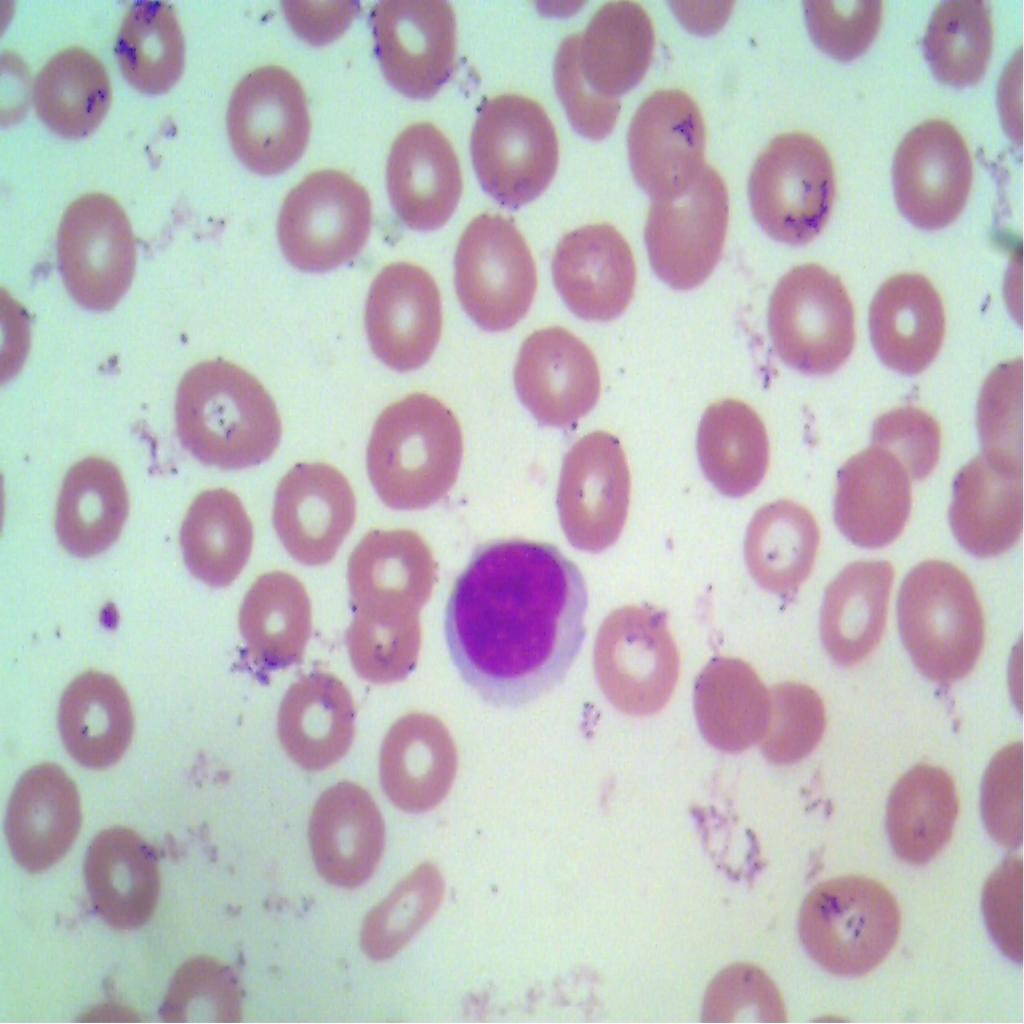Eritrosit: (742, 251, 863, 398), (889, 547, 989, 699), (271, 148, 373, 294), (43, 184, 161, 310), (176, 352, 286, 485), (589, 598, 688, 744), (731, 124, 842, 247), (258, 440, 358, 575), (874, 744, 974, 877), (295, 768, 391, 905), (808, 541, 904, 677), (366, 701, 468, 828), (549, 424, 644, 559), (359, 398, 464, 515), (546, 204, 638, 335), (795, 874, 902, 986), (686, 638, 773, 775), (218, 61, 318, 180), (381, 104, 464, 246), (224, 566, 328, 678), (649, 154, 728, 300), (350, 848, 444, 969), (0, 749, 88, 878), (884, 109, 971, 238), (266, 664, 359, 782), (175, 474, 259, 604), (510, 315, 601, 435), (28, 38, 122, 154), (452, 212, 538, 337), (50, 664, 146, 774), (735, 500, 829, 611), (858, 264, 946, 382), (82, 821, 170, 938), (618, 82, 708, 195), (471, 88, 559, 202), (341, 516, 443, 614), (368, 0, 462, 105), (362, 262, 450, 374), (695, 390, 775, 508), (824, 444, 906, 554), (56, 452, 136, 561), (918, 0, 1000, 106), (749, 675, 833, 778), (942, 452, 1023, 555), (548, 28, 621, 141), (114, 1, 196, 98), (341, 591, 433, 677), (582, 1, 658, 95), (868, 402, 946, 491)
Limfoblast: (443, 536, 589, 698)
Platelet: (86, 598, 126, 638)
